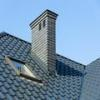chimneys: (29, 7, 58, 73)
